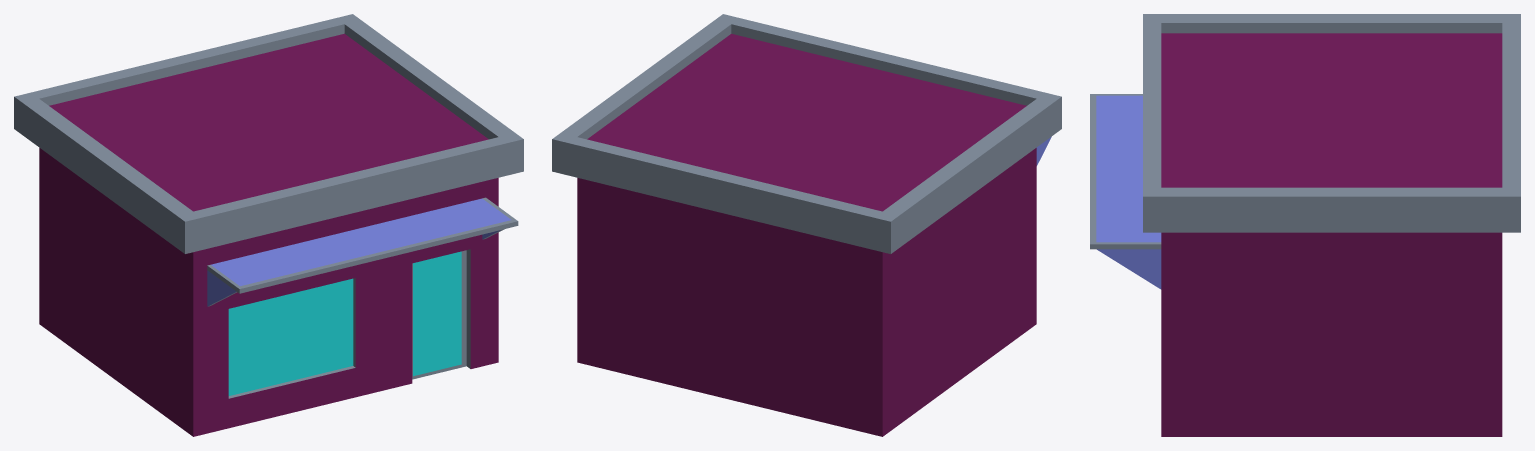
File: FurnitureStore.fbx
3 renders of one model, left to right at view 1: azimuth 30°, elevation 25°; view 2: azimuth 150°, elevation 25°; view 3: azimuth 270°, elevation 25°, orthographic. The views are drawn at different scales.
Parts seen in each view (by area): view 1: FurnitureStore; view 2: FurnitureStore; view 3: FurnitureStore.
Boxes of the visible parts, x1,y1,x2,y2 form: FurnitureStore: (14, 14, 523, 436); FurnitureStore: (552, 14, 1061, 436); FurnitureStore: (1090, 14, 1520, 436).
Bounding box in the file's own units: 1425 × 906 × 1421.
